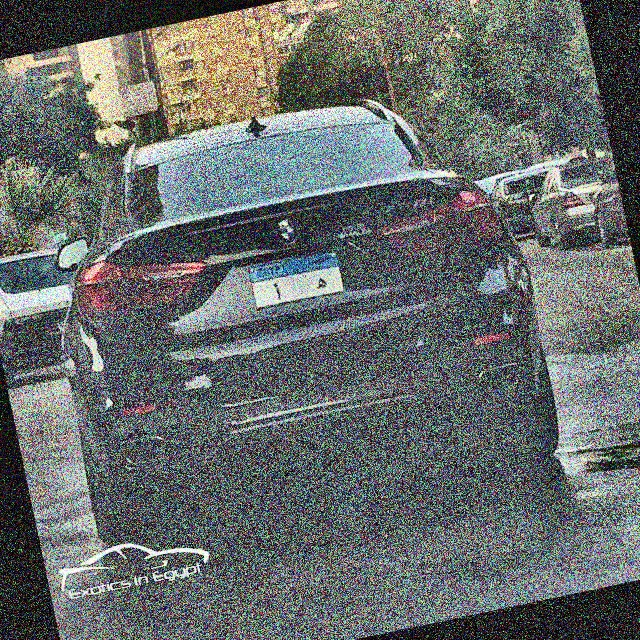License Plate: (244, 243, 350, 314)
